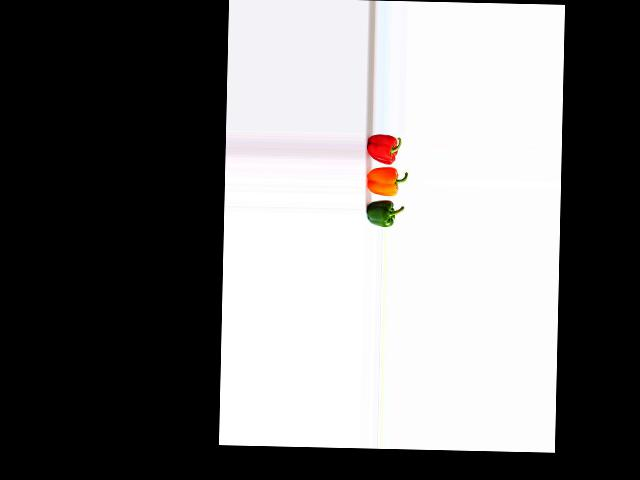bell_pepper: (367, 132, 408, 165)
